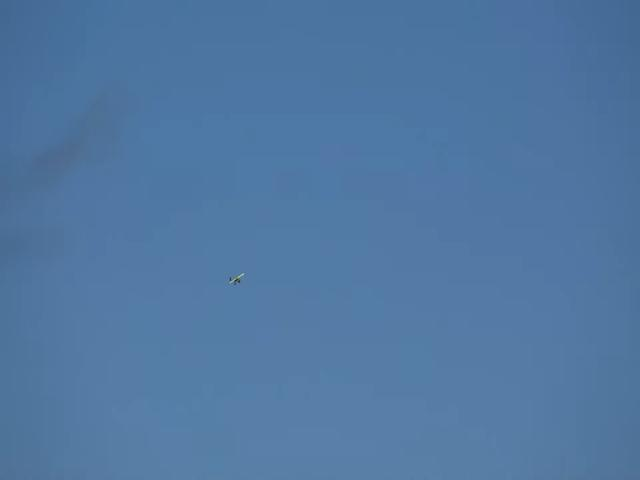plane: (228, 273, 245, 287)
